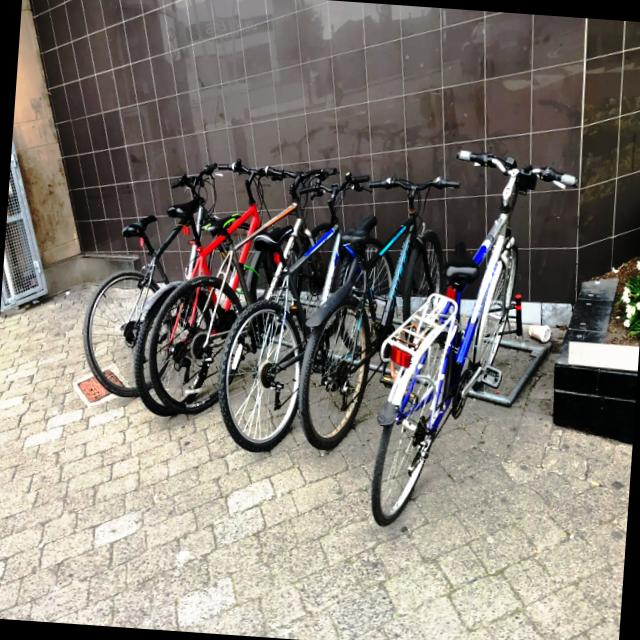bike: (366, 146, 582, 542), (214, 163, 403, 465), (148, 150, 354, 423), (81, 154, 280, 408), (132, 155, 310, 427), (297, 168, 448, 462)
